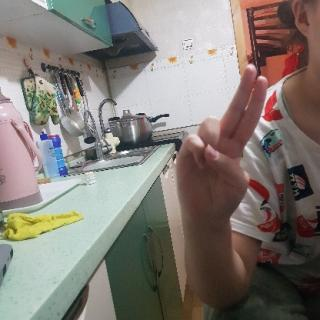TA: (170, 65, 274, 226)
